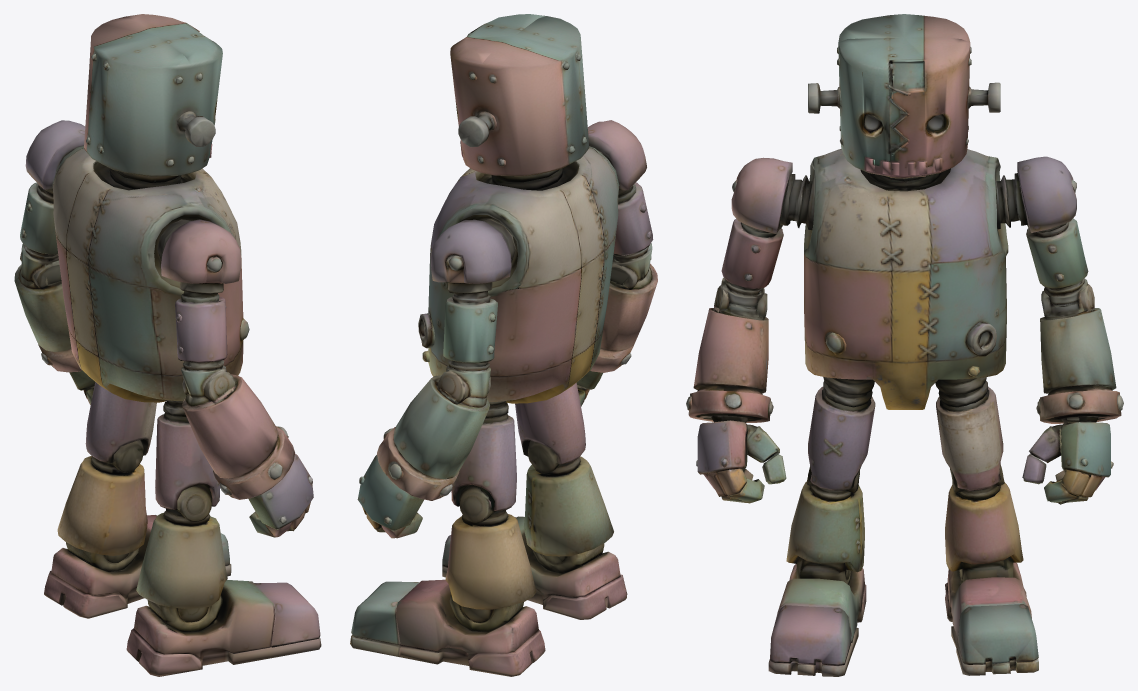
File: jion.glb
3 views of the same model, side by side, from view 1: azimuth 30°, elevation 25°; view 2: azimuth 150°, elevation 25°; view 3: azimuth 270°, elevation 25° (orthographic).
Parts seen in each view (by area): view 1: tripo_node_36594bef-7f5f-4aad-b435-14941f3f87af; view 2: tripo_node_36594bef-7f5f-4aad-b435-14941f3f87af; view 3: tripo_node_36594bef-7f5f-4aad-b435-14941f3f87af.
Part boxes in pixels (x1,y1,x2,y2): tripo_node_36594bef-7f5f-4aad-b435-14941f3f87af: (14,14,321,676); tripo_node_36594bef-7f5f-4aad-b435-14941f3f87af: (350,14,657,676); tripo_node_36594bef-7f5f-4aad-b435-14941f3f87af: (686,14,1123,676).
Bounding box in the file's own units: 0.3301 × 0.998 × 0.6738.
1 material, 1 textured.
